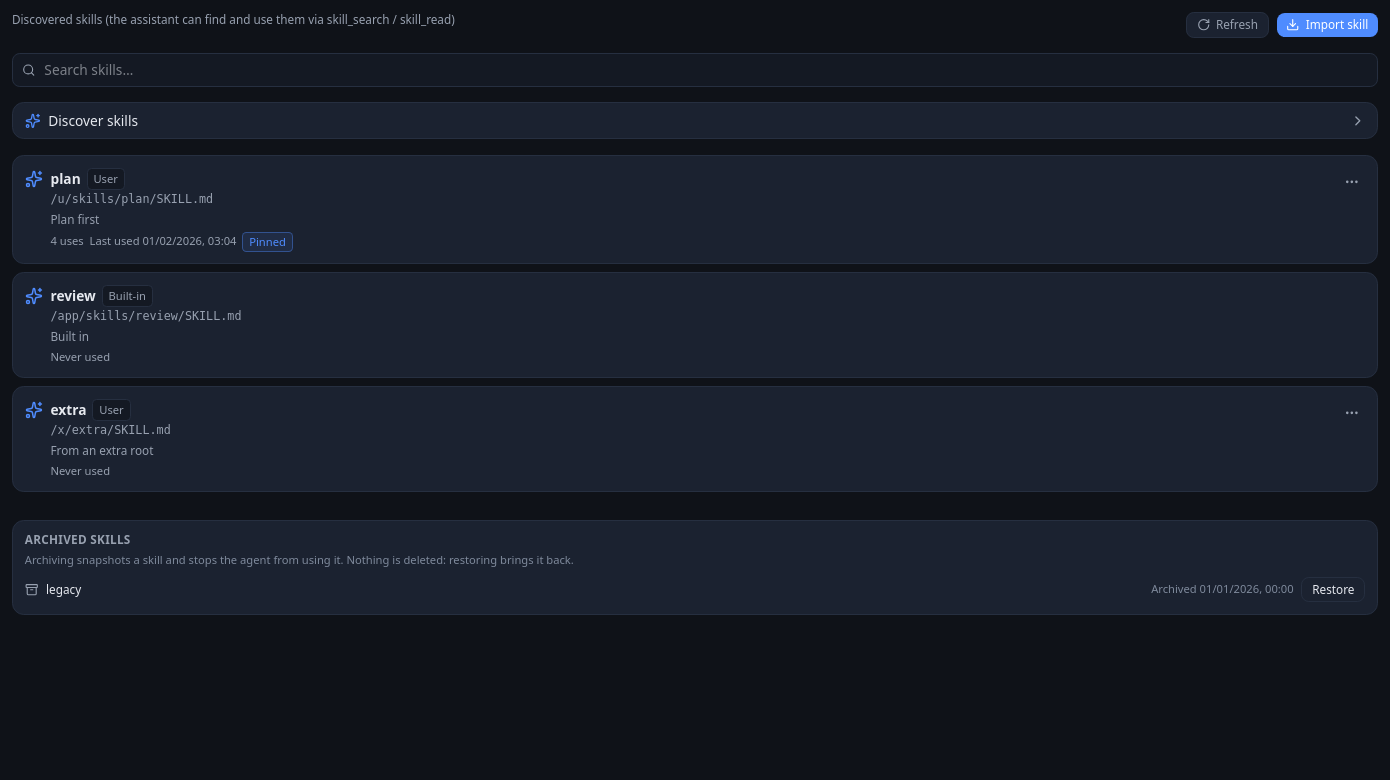
Scenario: SkillsSection lifecycle › keeps the lifecycle menu but drops delete for a skill it does not own
Check: the list item "extra" is shown, box [25,399,1330,480]
Click the 2nd button named "More actions" at (1352, 413), box [1338,399,1365,426]
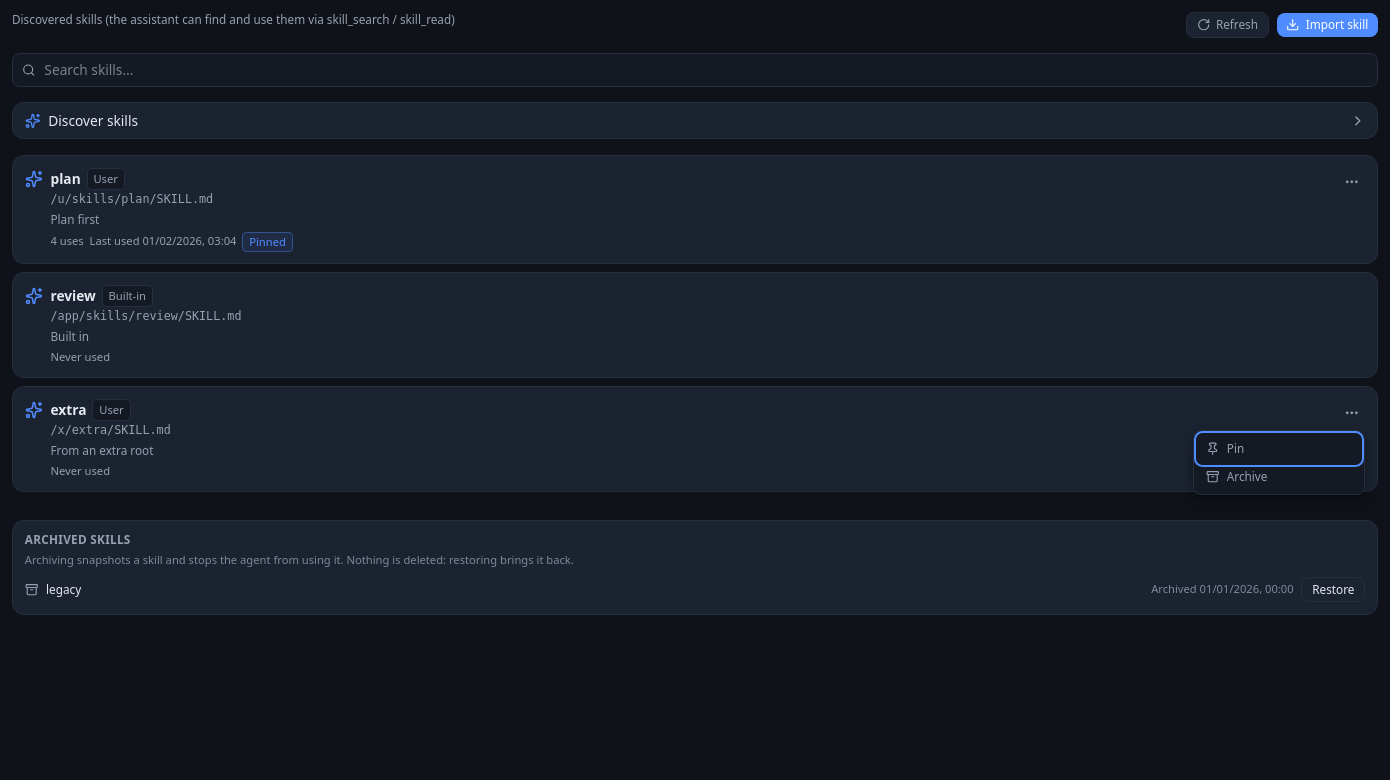
Check: the menu item "Pin" is shown, box [1198,435,1360,463]
